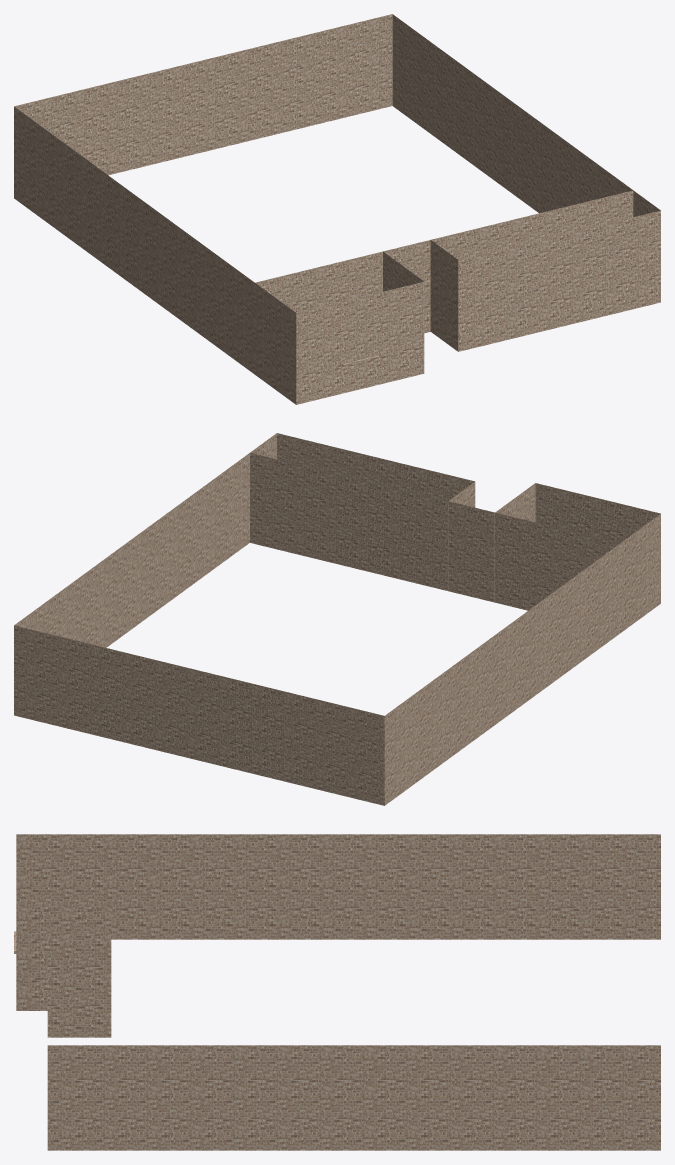
The model's file is SM_House_Walls.fbx.
3 renders of one model, top to bottom at view 1: azimuth 30°, elevation 25°; view 2: azimuth 150°, elevation 25°; view 3: azimuth 270°, elevation 25°, orthographic. The views are drawn at different scales.
Parts seen in each view (by area): view 1: SM_House_Walls; view 2: SM_House_Walls; view 3: SM_House_Walls.
Part boxes in pixels (x1=…): SM_House_Walls: x1=14, y1=14, x2=660, y2=404; SM_House_Walls: x1=14, y1=433, x2=660, y2=805; SM_House_Walls: x1=14, y1=834, x2=660, y2=1150.
Bounding box in the file's own units: 12.7 × 2.95 × 16.46.
1 material, 1 textured.
